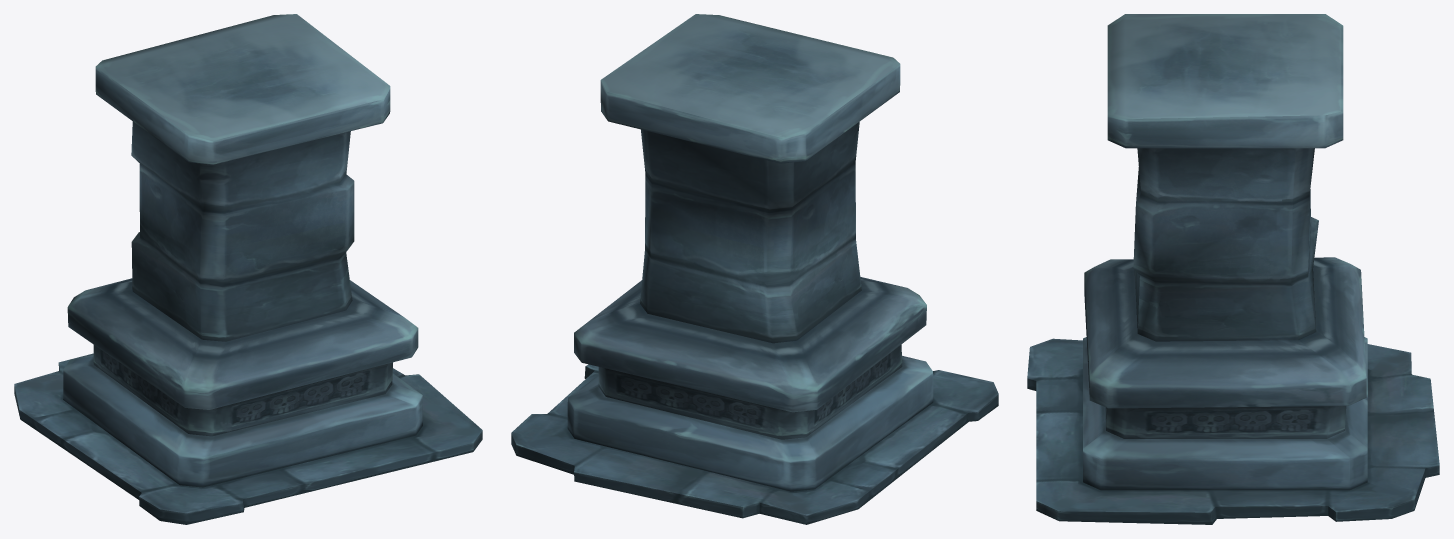
3 renders of one model, left to right at view 1: azimuth 30°, elevation 25°; view 2: azimuth 150°, elevation 25°; view 3: azimuth 270°, elevation 25°, orthographic. The views are drawn at different scales.
Parts seen in each view (by area): view 1: dungoen_pillar_pillar_mat_0; view 2: dungoen_pillar_pillar_mat_0; view 3: dungoen_pillar_pillar_mat_0.
Part boxes in pixels (left/top/right/bottom): dungoen_pillar_pillar_mat_0: left=14, top=14, right=482, bottom=524; dungoen_pillar_pillar_mat_0: left=511, top=14, right=998, bottom=524; dungoen_pillar_pillar_mat_0: left=1027, top=14, right=1439, bottom=524.
Size of the model in its own units: 4 by 4 by 4.
Materials: 1 (1 with a texture image).
